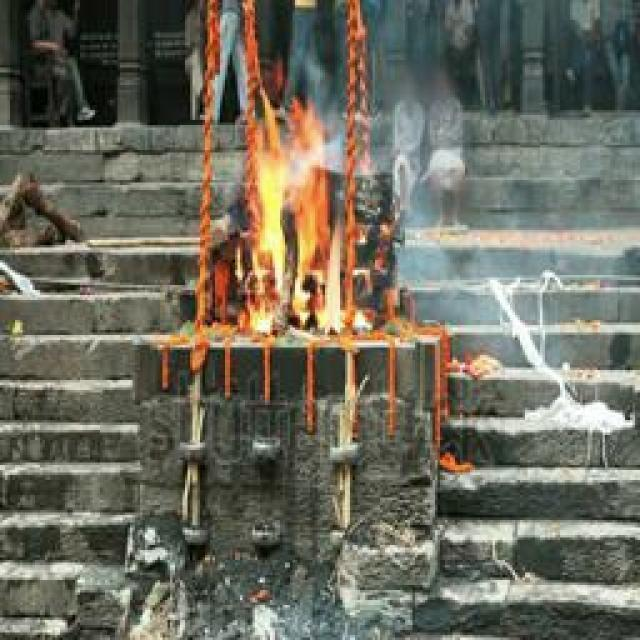Fire: (243, 109, 346, 338)
